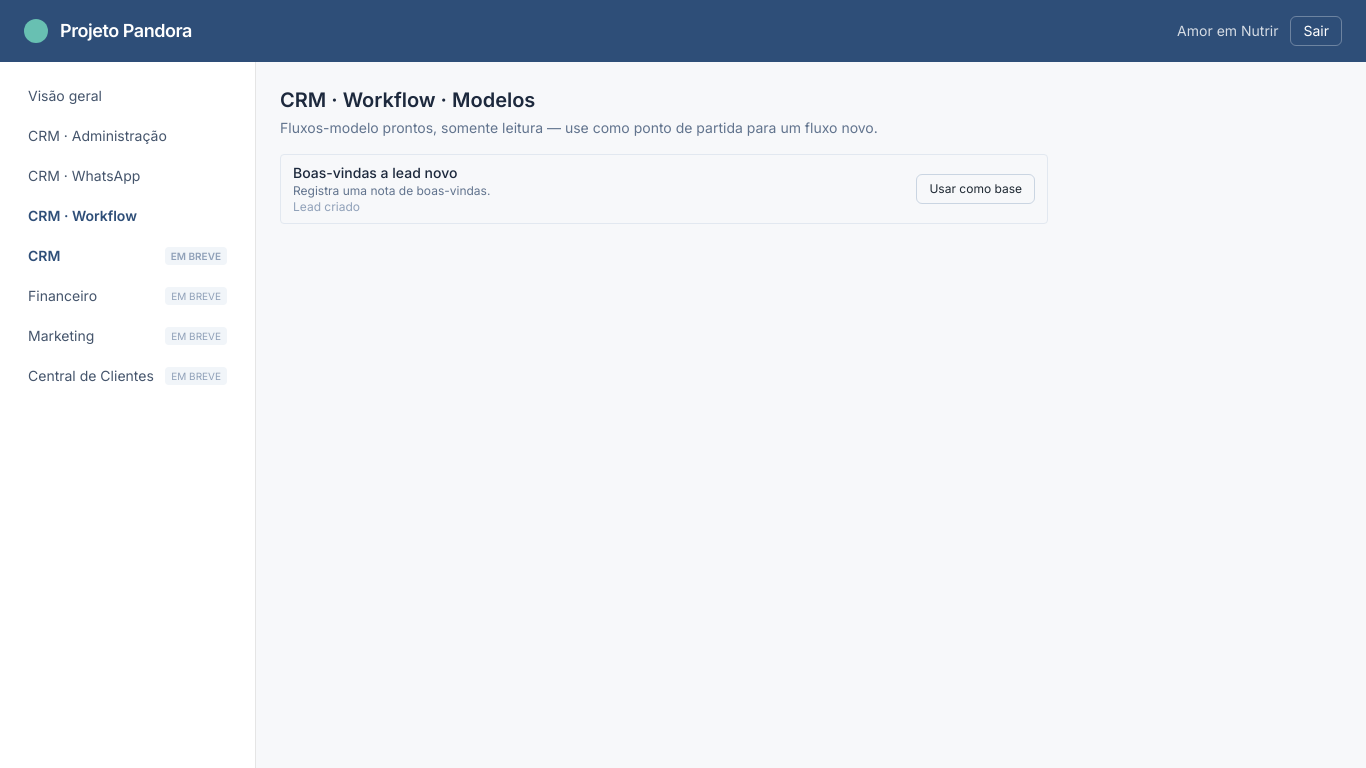
Scenario: CRM · Workflow · biblioteca de modelos (spec 014) › usar como base clona e navega para o novo fluxo
The width and height of the screenshot is (1366, 768).
Click the button "Usar como base" at [976, 189], box [916,174,1035,204]
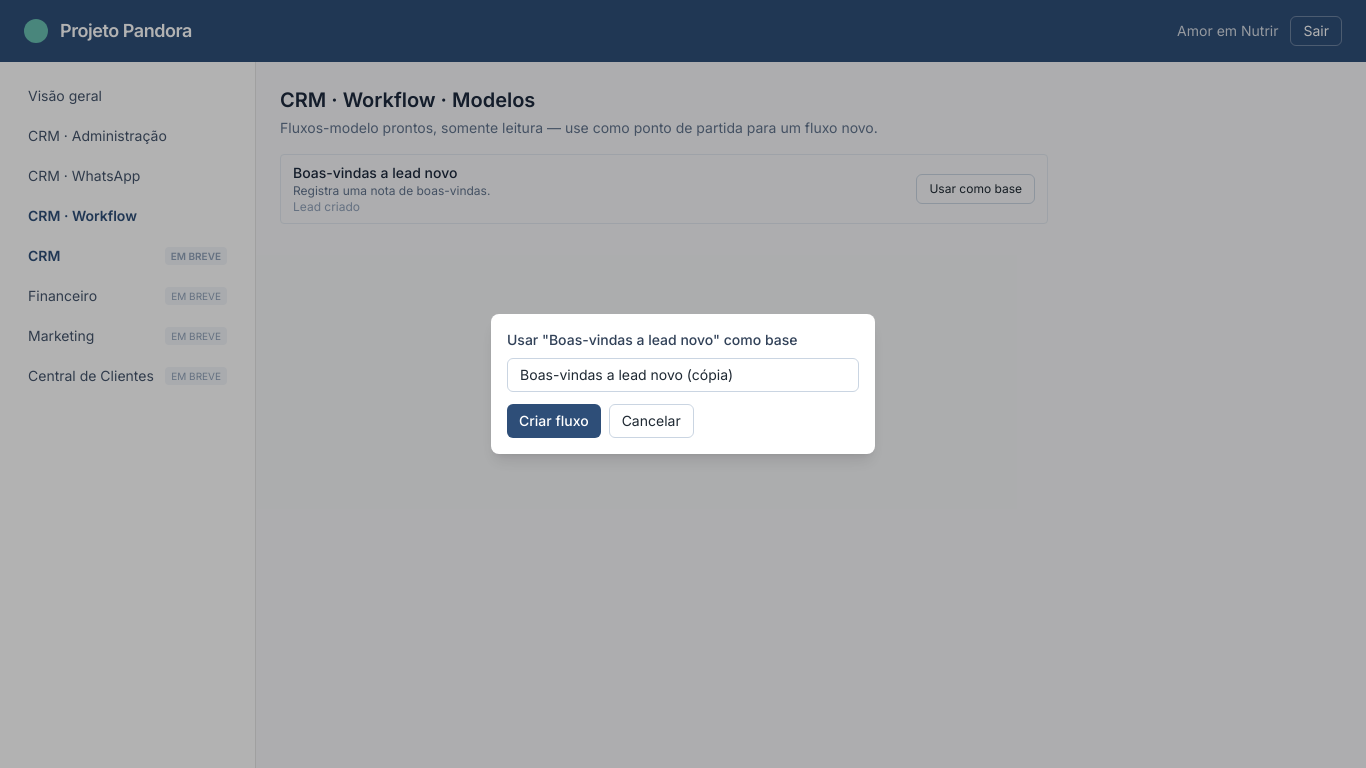
Click the button "Criar fluxo" at [554, 421], box [507,404,601,438]
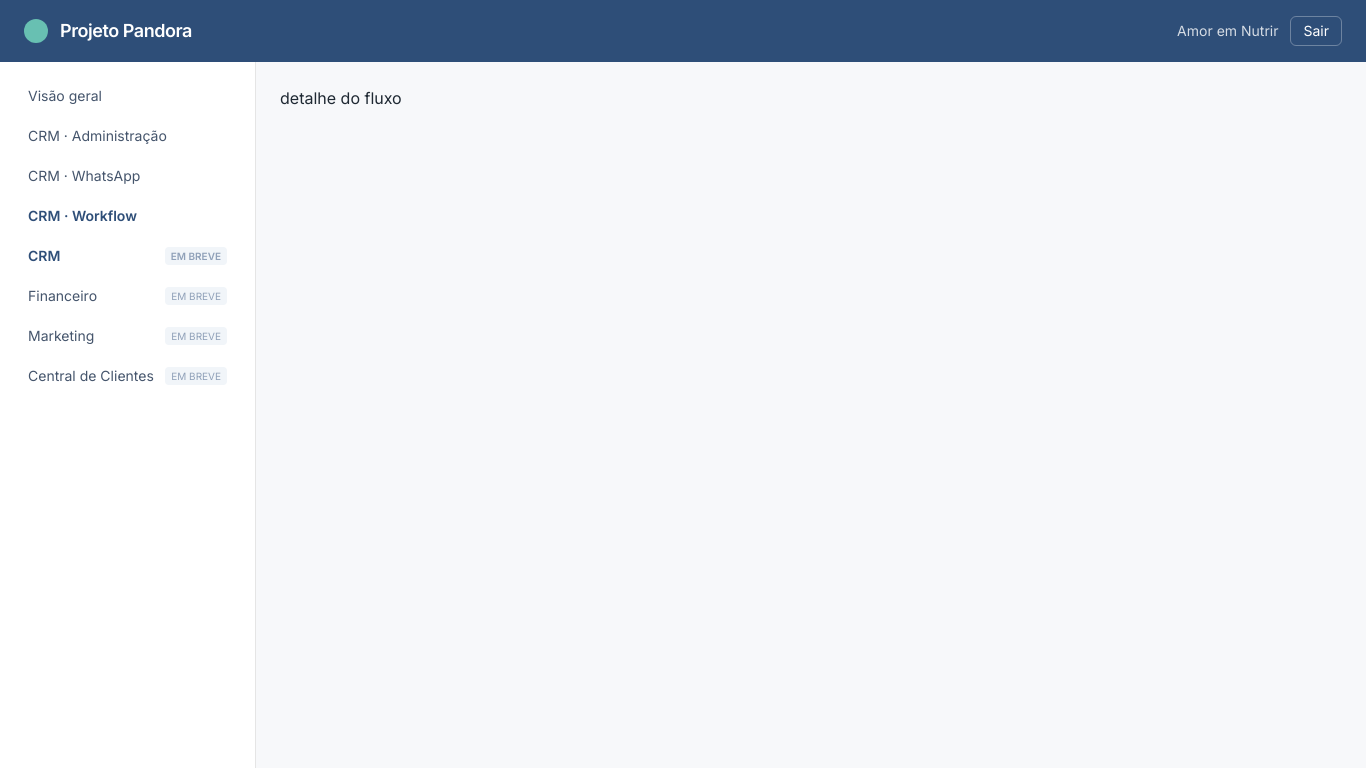
Expected: the text "detalhe do fluxo" is shown, [280,88,402,108]
